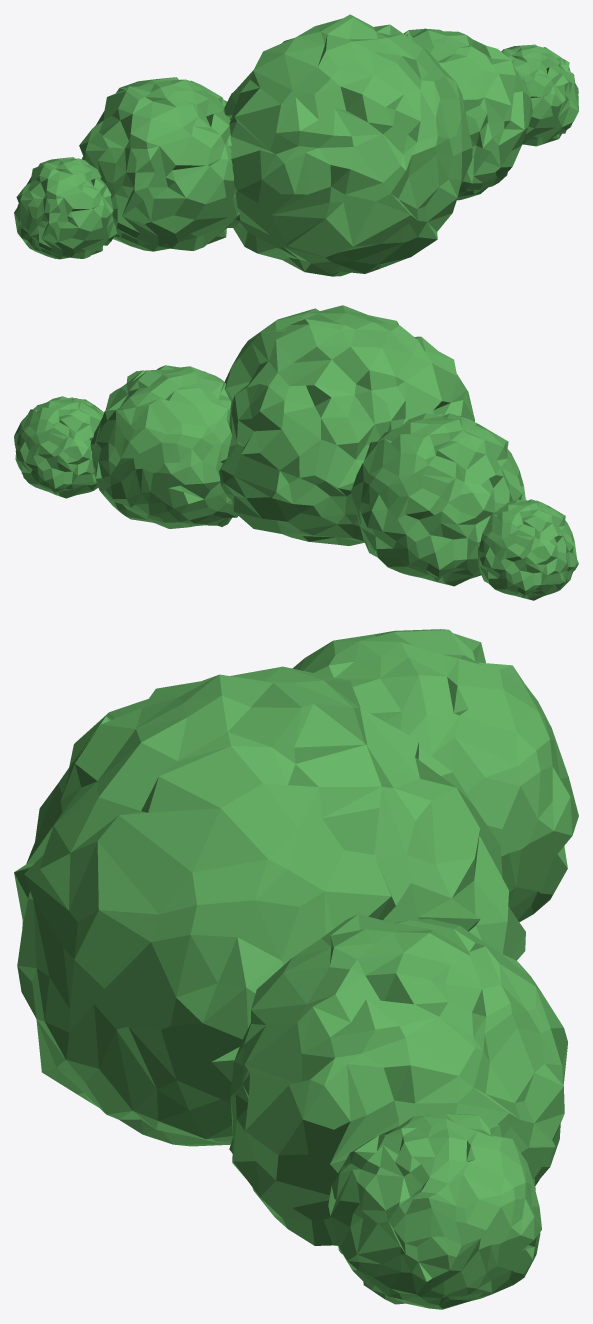
File: arbustoPeqVarios5.glb
The picture shows the model from 3 angles, top to bottom: view 1: azimuth 30°, elevation 25°; view 2: azimuth 150°, elevation 25°; view 3: azimuth 270°, elevation 25°; orthographic projection. The views are drawn at different scales.
Visible parts, largest first — view 1: Icosphere.004; view 2: Icosphere.004; view 3: Icosphere.004.
Boxes of the visible parts, x1,y1,x2,y2 form: Icosphere.004: (14, 14, 578, 276); Icosphere.004: (14, 305, 578, 600); Icosphere.004: (14, 629, 578, 1309).
Size of the model in its own units: 3.7 by 1.42 by 1.66.
